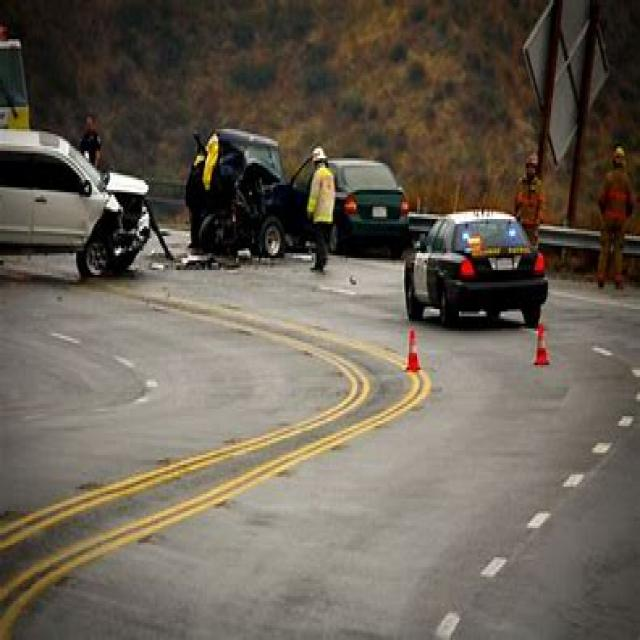Accident: (95, 68, 362, 307)
